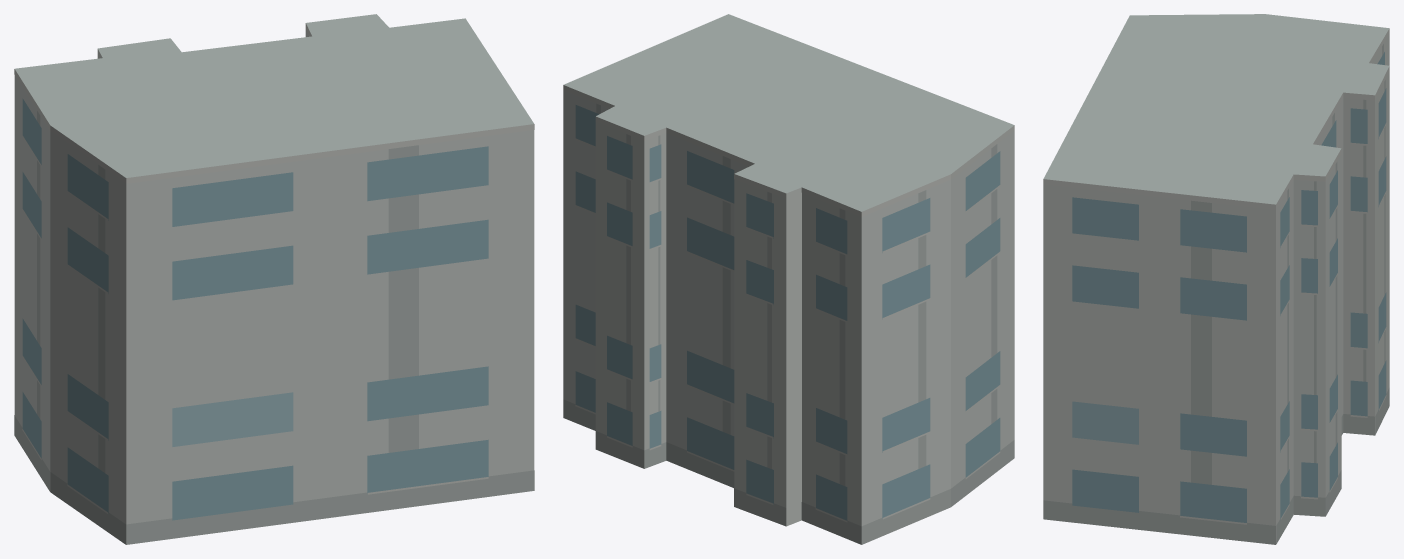
File: survey-upis-32566759.glb
3 views of the same model, side by side, from view 1: azimuth 30°, elevation 25°; view 2: azimuth 150°, elevation 25°; view 3: azimuth 270°, elevation 25° (orthographic). The views are drawn at different scales.
Parts seen in each view (by area): view 1: survey-upis-32566759.tmp; view 2: survey-upis-32566759.tmp; view 3: survey-upis-32566759.tmp.
Part boxes in pixels (<box>): survey-upis-32566759.tmp: <box>14,14,534,544</box>; survey-upis-32566759.tmp: <box>563,14,1014,544</box>; survey-upis-32566759.tmp: <box>1043,14,1389,544</box>.
Bounding box in the file's own units: 18.33 × 15.25 × 14.08.
